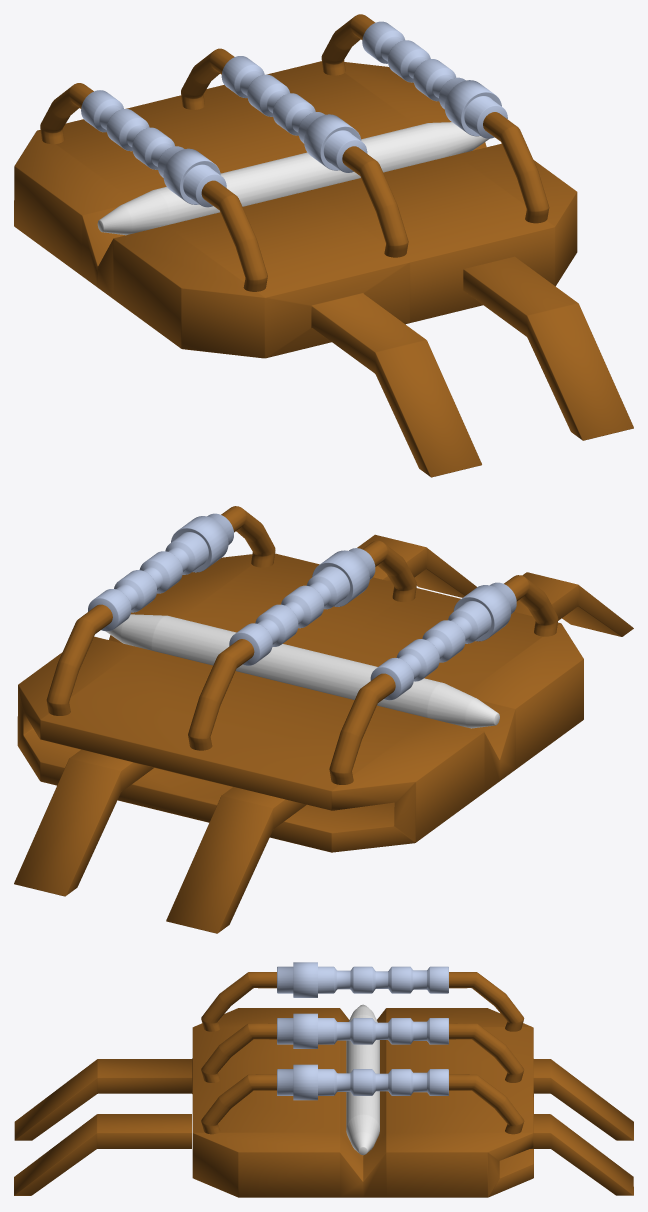
File: aranha_com_pernas.fbx
3 renders of one model, top to bottom at view 1: azimuth 30°, elevation 25°; view 2: azimuth 150°, elevation 25°; view 3: azimuth 270°, elevation 25°, orthographic. The views are drawn at different scales.
Parts seen in each view (by area): view 1: Cube; view 2: Cube; view 3: Cube.
Part boxes in pixels (x1,y1,x2,y2): Cube: [14, 14, 633, 477]; Cube: [14, 506, 633, 933]; Cube: [14, 962, 633, 1197].
Size of the model in its own units: 200 by 91.82 by 363.
